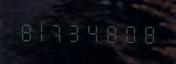eight: (17, 18, 33, 43), (136, 20, 152, 45), (102, 20, 118, 44)
four: (85, 19, 101, 44)
one: (34, 19, 50, 43)
seven: (51, 19, 67, 43)
three: (68, 19, 84, 43)
zero: (119, 20, 135, 44)
